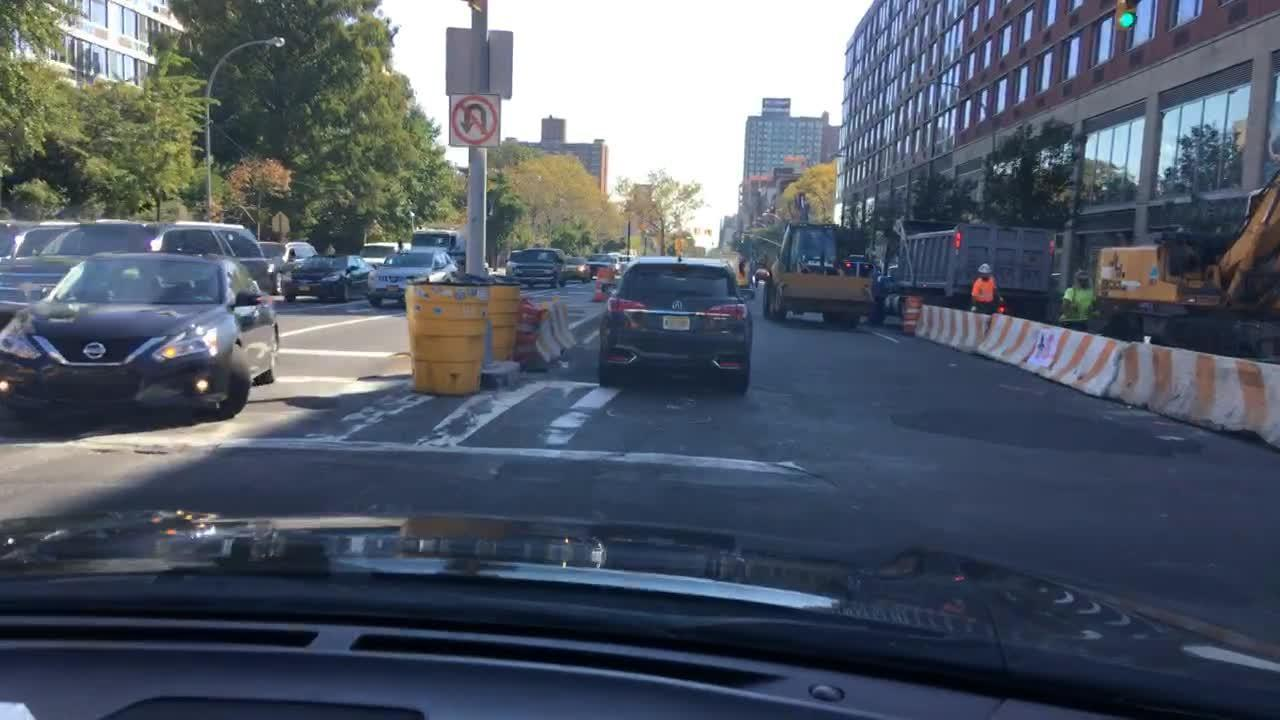Nissan: (80, 340, 110, 365)
acura: (666, 293, 688, 314)
